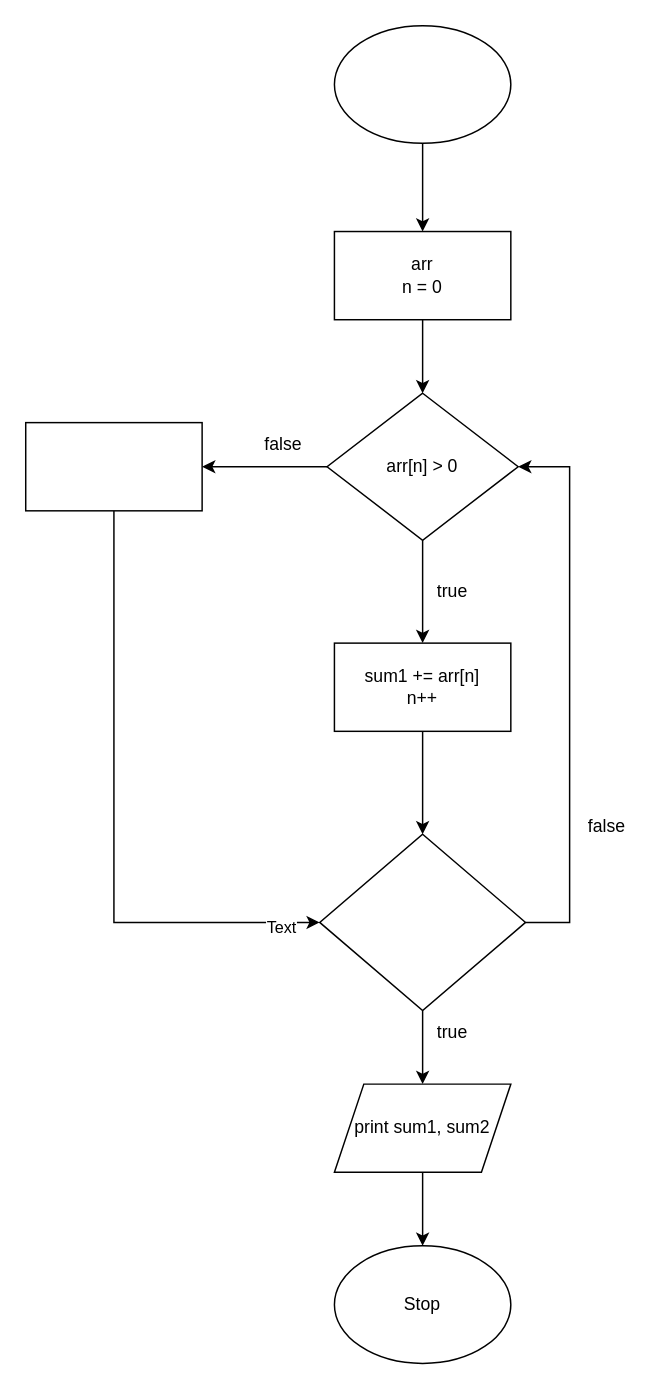
Image size: 669x1389. Some labels were removed from this diagram. The shapes that lost their labels are listed below. From the top down, each one's box as (x1, y1, x2, y2) in pixels, then its label:
(333, 24, 511, 143): Start
(24, 421, 202, 511): sum2 += arr[n] n++
(318, 833, 526, 1011): n == length - 1
